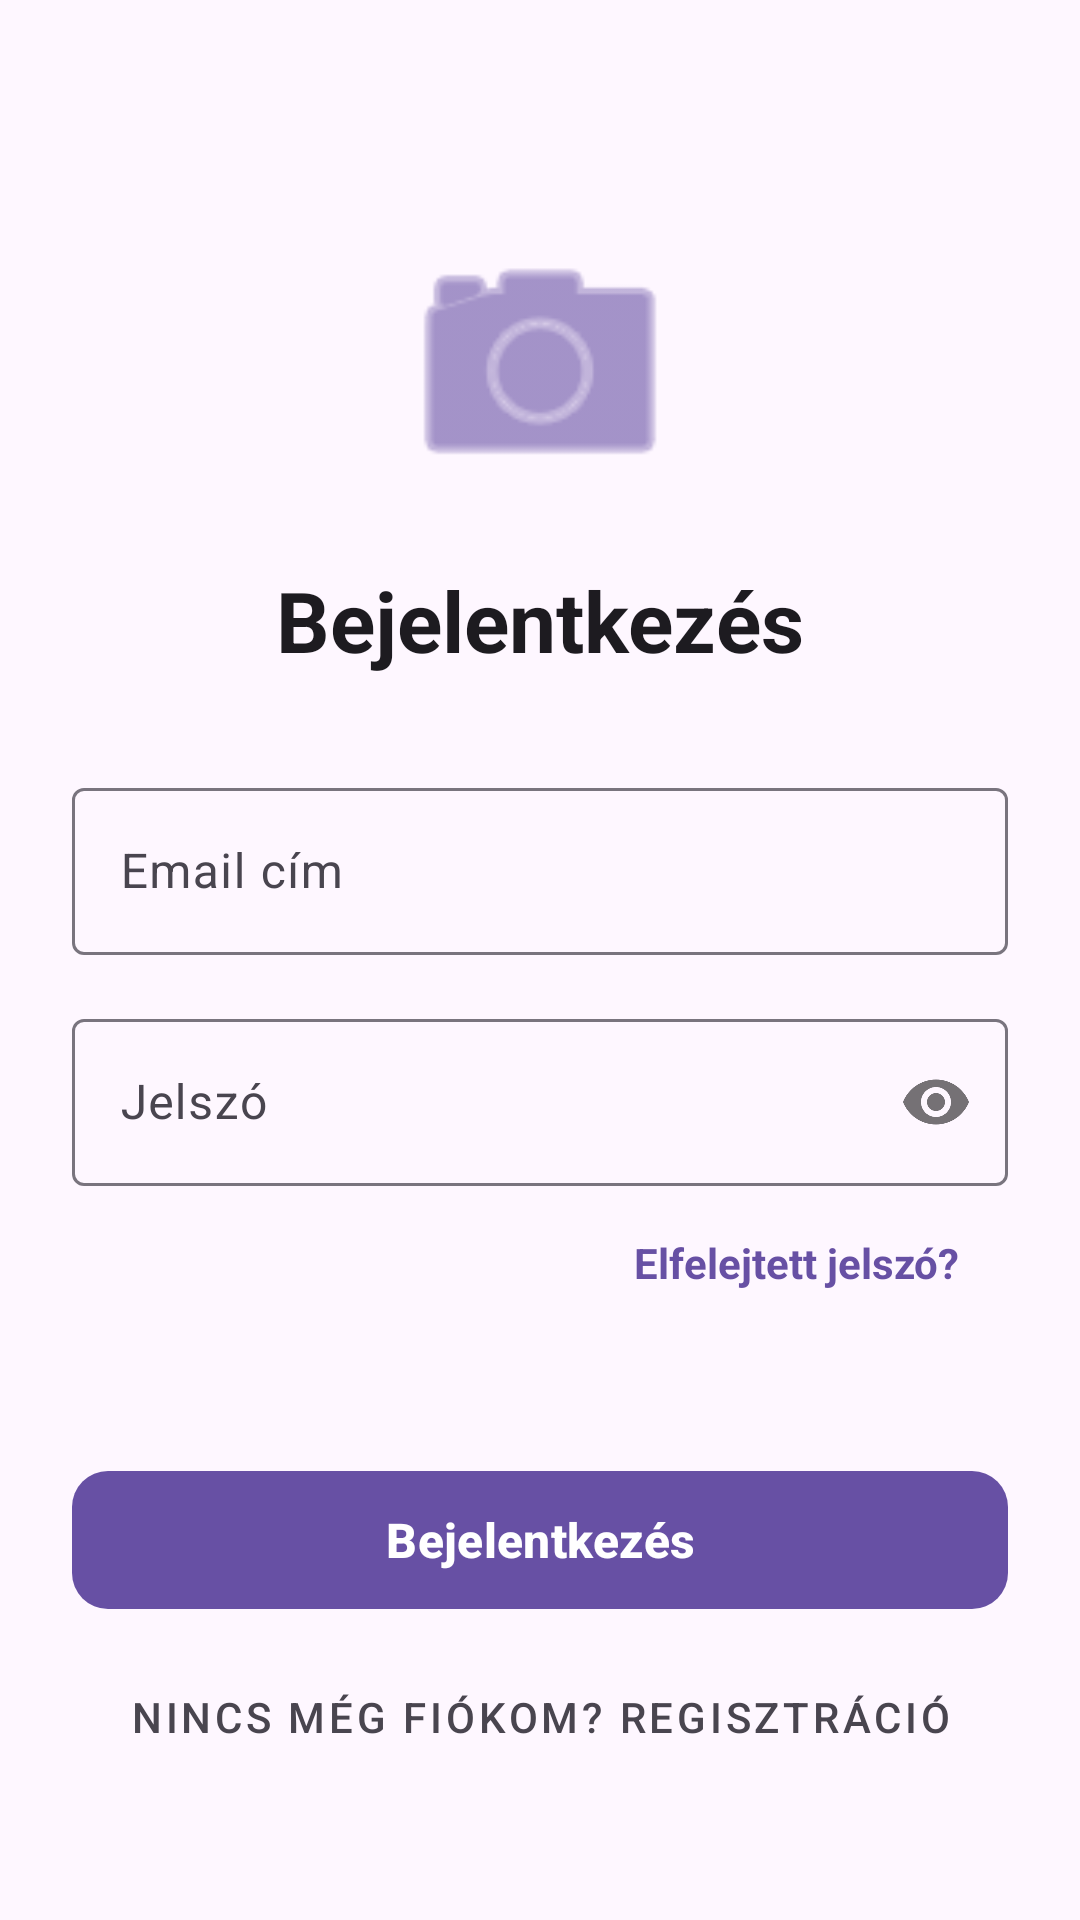

Named icons in this screenshot (1080*1920) and their bounding boxes, [x1,y1,x2,y2]:
camera: [424,269,656,453]
